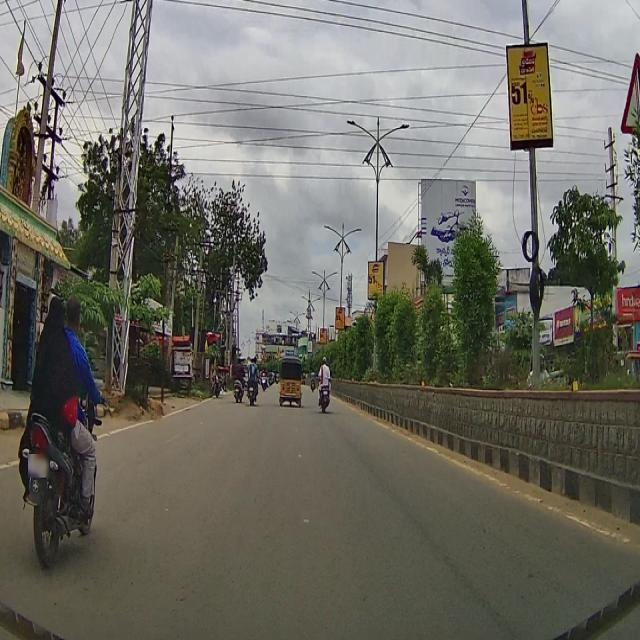gap-in-median: (621, 52, 640, 129)
